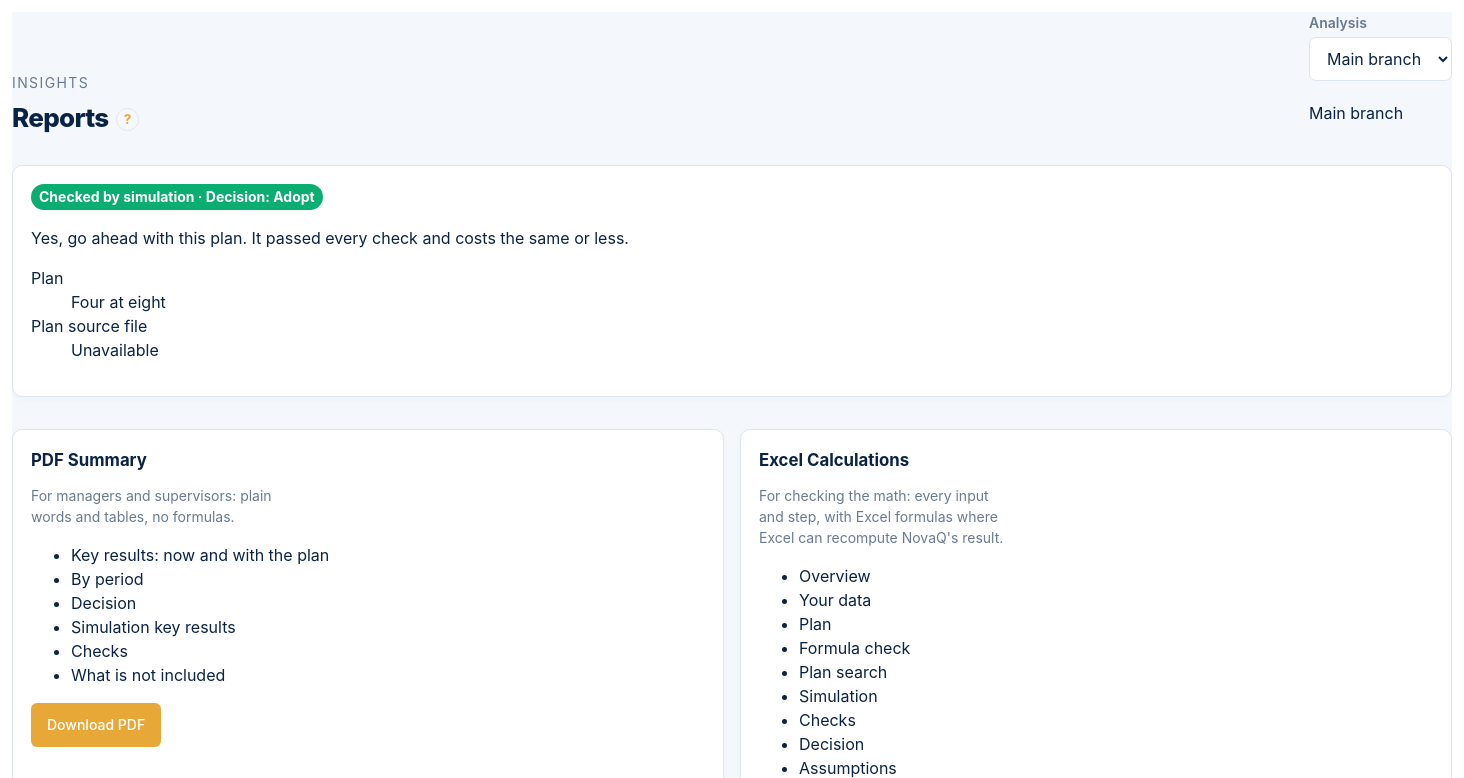
Reports page (B8, D33) › shows a refused download as an alert
This screenshot has width=1464, height=778.
Click the button "Download PDF" at (96, 725), box [31,703,161,747]
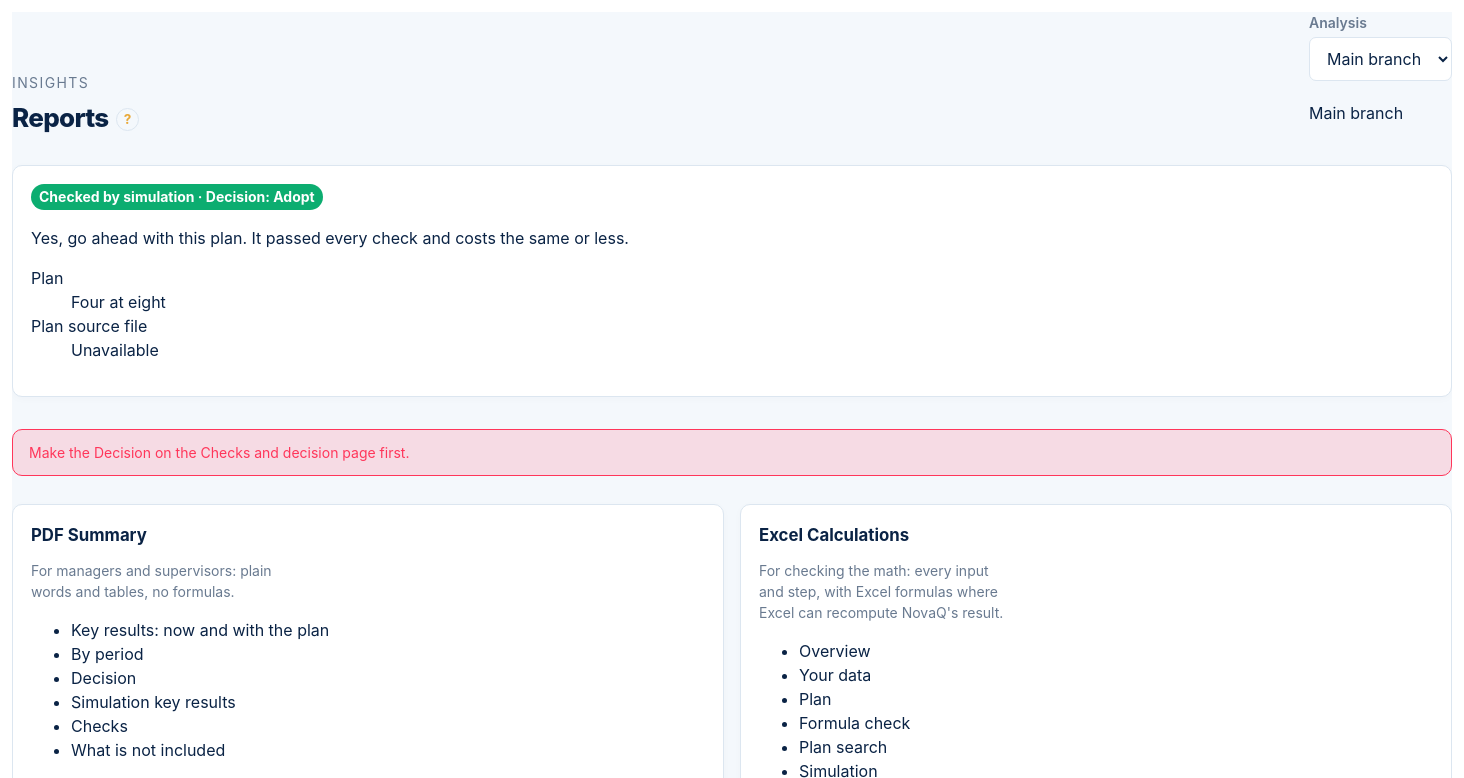
Expected: the message reads "Make the Decision on the Checks and decision page first.", [29,444,410,461]
